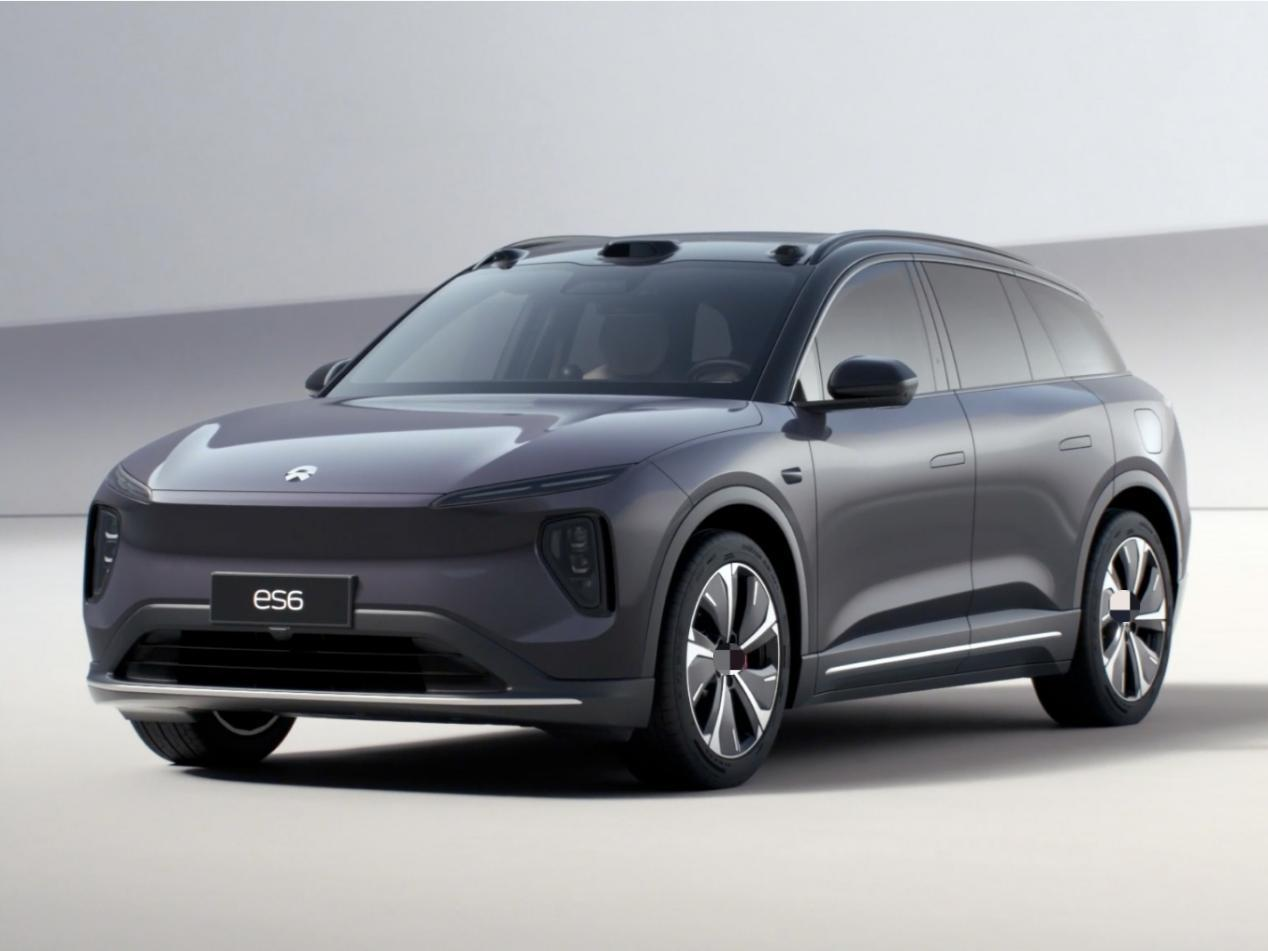NIO: (284, 465, 316, 482)
